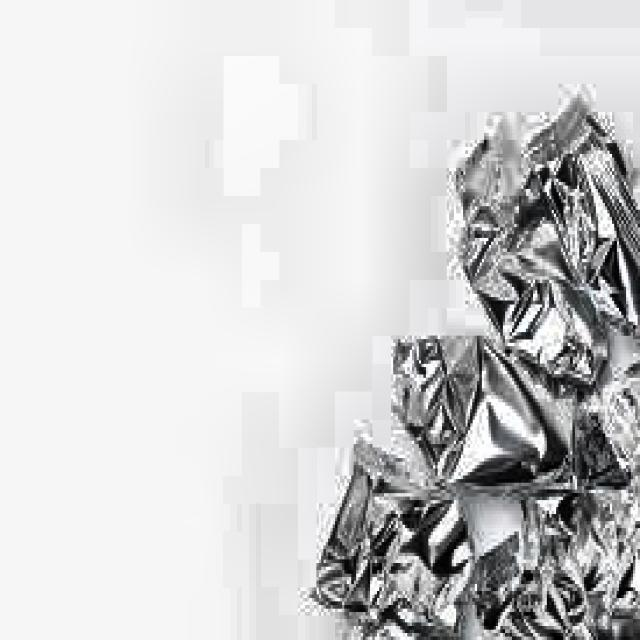Foil: (284, 95, 640, 640)
